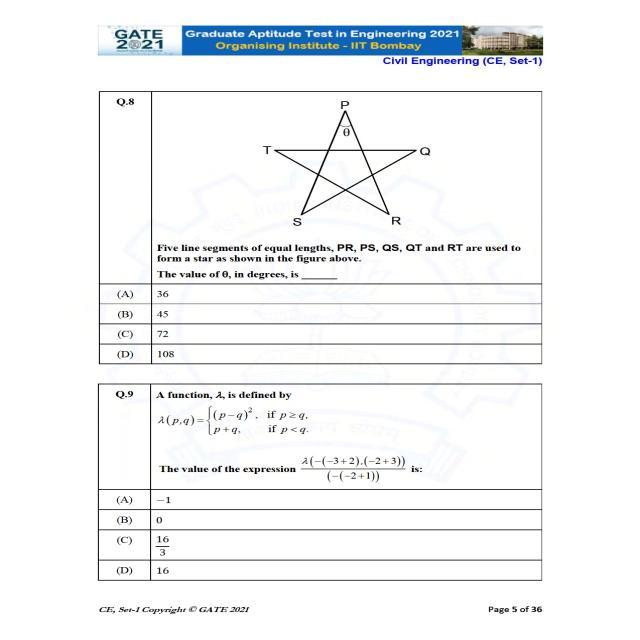Answer_Block: (97, 489, 541, 579), (99, 284, 539, 362)
Question_Answer_Block: (98, 91, 542, 362), (96, 385, 540, 582)
Question_Block: (99, 92, 539, 283), (96, 384, 539, 490)
Question_Paper_Area: (100, 90, 544, 580)
